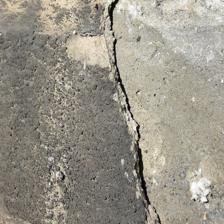Crack: (51, 2, 110, 219)
